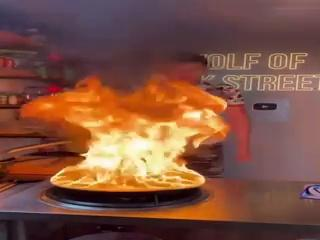Fire: (29, 55, 208, 195)
